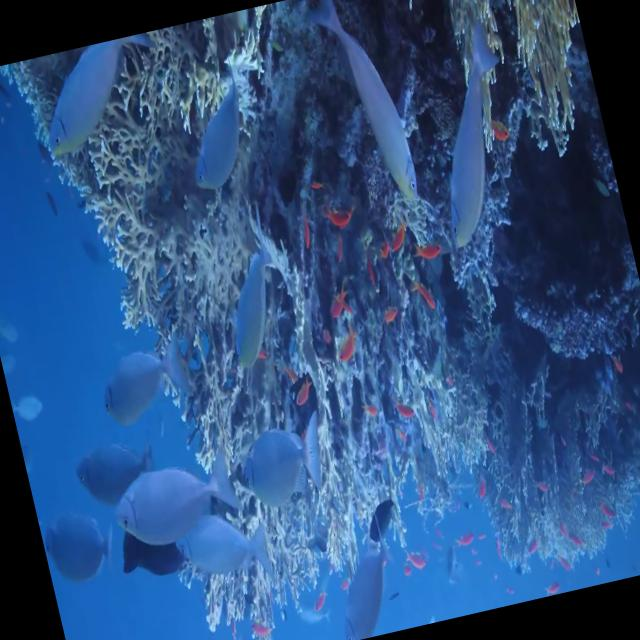fish: (410, 30, 532, 255), (314, 0, 425, 230), (20, 35, 157, 162), (108, 452, 246, 560), (206, 234, 305, 370), (172, 66, 268, 196), (222, 413, 334, 521), (89, 327, 202, 428), (36, 492, 120, 592), (70, 430, 164, 506)
